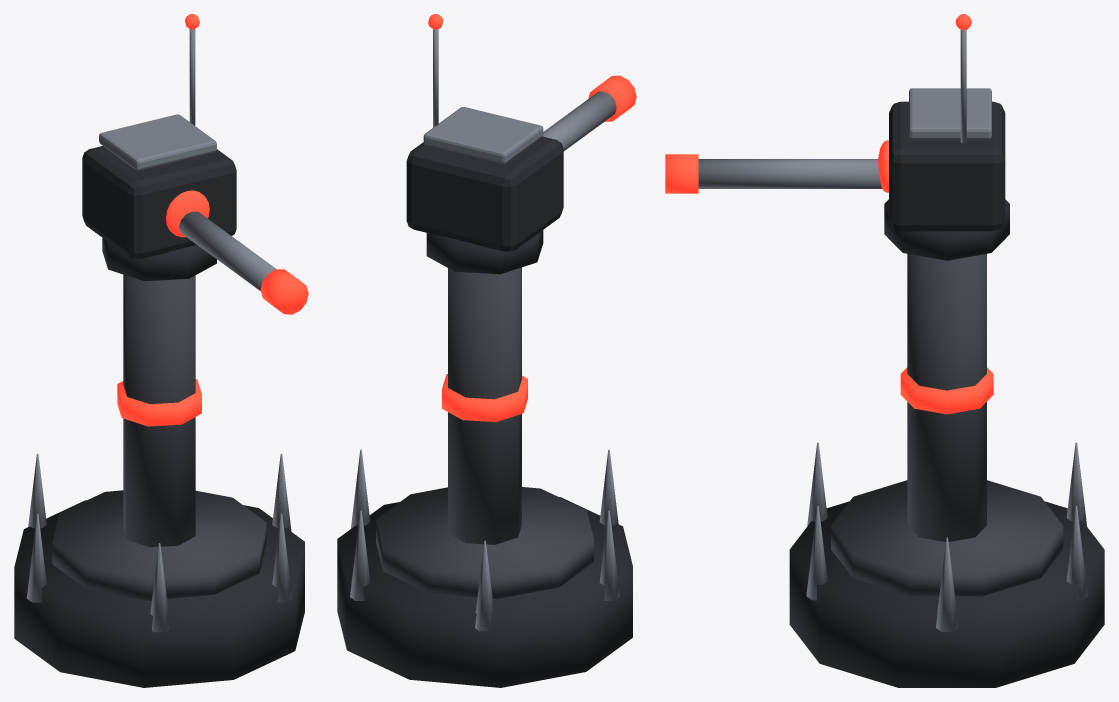
The model's file is tower_red.glb.
3 renders of one model, left to right at view 1: azimuth 30°, elevation 25°; view 2: azimuth 150°, elevation 25°; view 3: azimuth 270°, elevation 25°, orthographic. The views are drawn at different scales.
Visible parts, largest first — view 1: part_dark, part_mid, part_light, part_glow; view 2: part_dark, part_mid, part_light, part_glow; view 3: part_dark, part_mid, part_light, part_glow.
Boxes of the visible parts, box(x1,y1,x2,y2) form: part_dark: box(14, 146, 304, 687); part_mid: box(52, 274, 266, 600); part_light: box(26, 29, 292, 632); part_glow: box(117, 14, 308, 426); part_dark: box(337, 136, 632, 687); part_mid: box(376, 267, 593, 598); part_light: box(350, 29, 619, 631); part_glow: box(428, 14, 636, 421); part_dark: box(789, 101, 1104, 687); part_mid: box(831, 254, 1063, 596); part_light: box(698, 30, 1087, 631); part_glow: box(665, 14, 993, 414).
Size of the model in its own units: 1.92 by 4.2 by 2.65.
